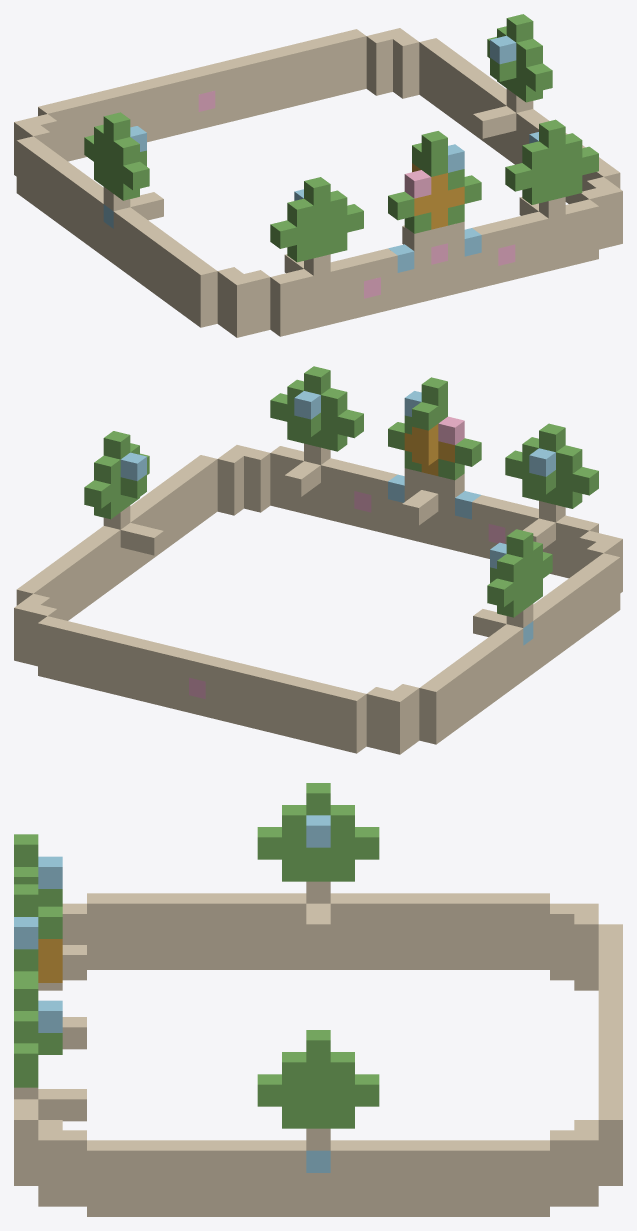
File: britney-acc0.2dde5889.glb
3 views of the same model, one above another, from view 1: azimuth 30°, elevation 25°; view 2: azimuth 150°, elevation 25°; view 3: azimuth 270°, elevation 25° (orthographic). The views are drawn at different scales.
Visible parts, largest first — view 1: beige, verde, celeste, rosa, dorado; view 2: beige, verde, celeste, rosa, dorado; view 3: beige, verde, celeste, dorado.
Part boxes in pixels (left/top/right/bottom): beige: left=14, top=28, right=622, bottom=337; verde: left=84, top=14, right=598, bottom=262; celeste: left=103, top=35, right=538, bottom=272; rosa: left=198, top=90, right=515, bottom=298; dorado: left=412, top=163, right=464, bottom=229; beige: left=14, top=443, right=622, bottom=754; verde: left=84, top=366, right=598, bottom=617; celeste: left=120, top=391, right=555, bottom=645; rosa: left=189, top=416, right=505, bottom=698; dorado: left=404, top=424, right=454, bottom=475; beige: left=14, top=881, right=622, bottom=1216; verde: left=14, top=783, right=379, bottom=1128; celeste: left=14, top=815, right=330, bottom=1172; dorado: left=38, top=939, right=62, bottom=982.
Bounding box in the file's own units: 0.45 × 0.162 × 0.45.
